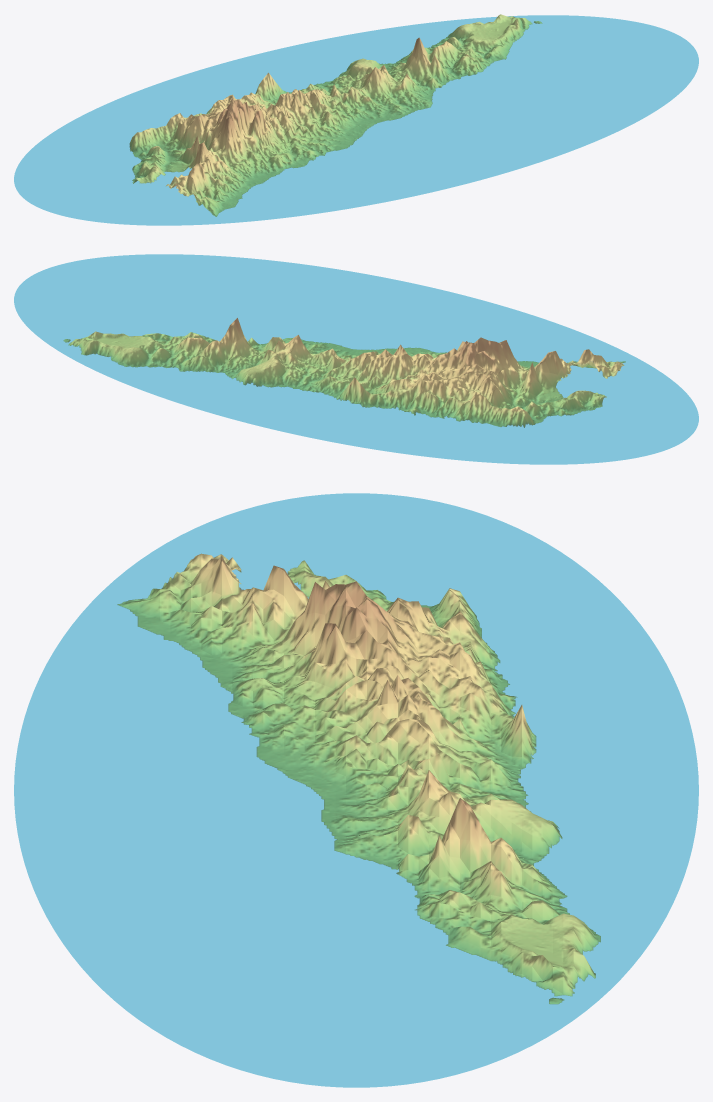
The model's file is TLS-terrain.glb.
3 renders of one model, top to bottom at view 1: azimuth 30°, elevation 25°; view 2: azimuth 150°, elevation 25°; view 3: azimuth 270°, elevation 25°, orthographic. The views are drawn at different scales.
Parts seen in each view (by area): view 1: Relevo com hidrografia; view 2: Relevo com hidrografia; view 3: Relevo com hidrografia.
Boxes of the visible parts, <box> form: Relevo com hidrografia: <box>14,14,698,225</box>; Relevo com hidrografia: <box>14,254,698,464</box>; Relevo com hidrografia: <box>14,493,698,1087</box>.
Bounding box in the file's own units: 2.24 × 0.1703 × 1.09.
2 materials, 1 textured.
